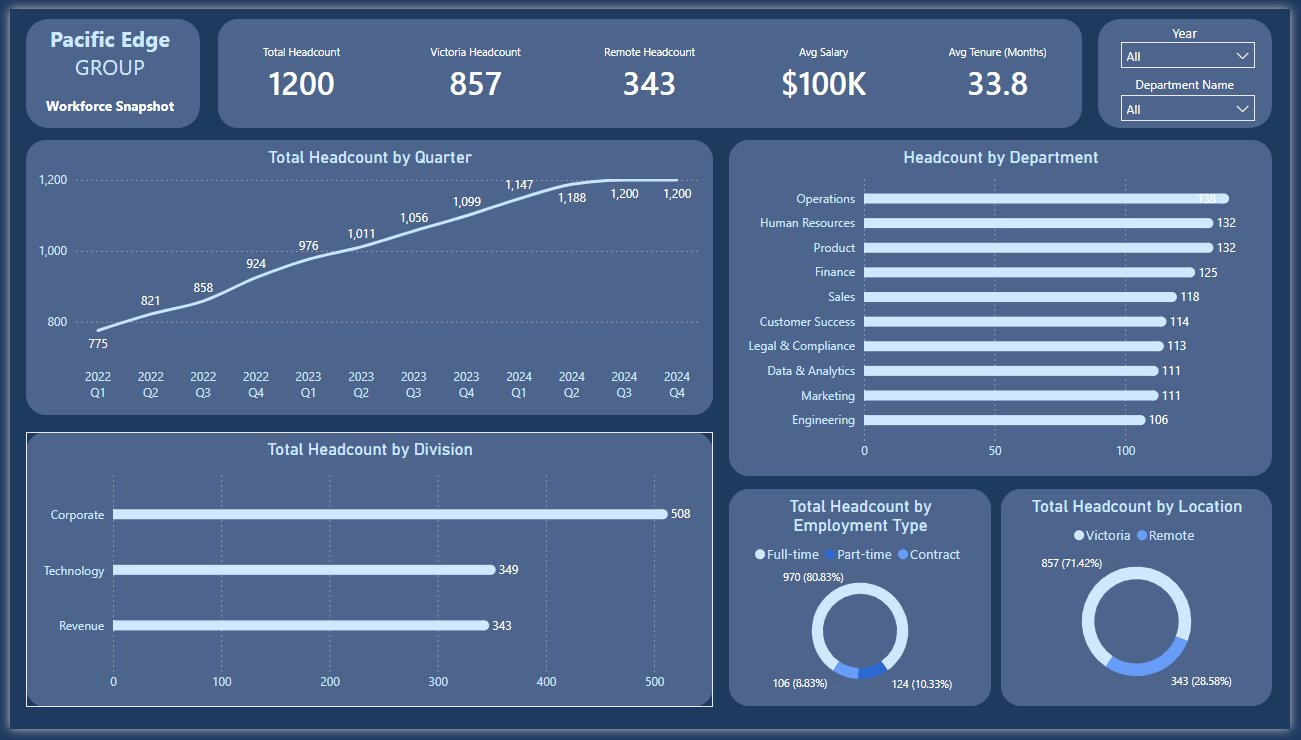

This screenshot's page, from the dashboard's own definition file:
{"tool":"powerbi","page":{"name":"Workforce Snapshot","canvas":[1280,720],"ordinal":0},"visuals":[{"type":"cardVisual","fields":{"Data":["_Measures.Total Headcount","_Measures.Victoria Headcount","_Measures.Remote Headcount","_Measures.Avg Salary","_Measures.Avg Tenure (Months)"]},"box":[207.8,10,864.4,108.9],"z":0},{"type":"shape","box":[15.6,10,174.4,108.9],"z":1000},{"type":"shape","box":[1087.8,10,174.4,108.9],"z":2000,"group":"g1"},{"type":"lineChart","title":"Total Headcount by Quarter","fields":{"Category":["dim_date.year_quarter"],"Y":["_Measures.Total Headcount"]},"box":[15.6,131.1,687.8,274.4],"z":2000},{"type":"clusteredBarChart","title":"Total Headcount by Division","fields":{"Category":["dim_department.division"],"Y":["_Measures.Total Headcount"]},"box":[15.6,423.3,687.8,274.4],"z":3000},{"type":"clusteredBarChart","title":"Headcount by Department","fields":{"Category":["dim_department.dept_name"],"Y":["_Measures.Total Headcount"]},"box":[718.9,131.1,543.3,335.6],"z":4000},{"type":"donutChart","title":"Total Headcount by Employment Type","fields":{"Category":["dim_employee.employment_type"],"Y":["_Measures.Total Headcount"]},"box":[718.9,480,262.2,216.7],"z":5000},{"type":"donutChart","title":"Total Headcount by Location","fields":{"Category":["dim_employee.location"],"Y":["_Measures.Total Headcount"]},"box":[991.1,480,271.1,216.7],"z":6000},{"type":"textbox","box":[29,10,143,109],"z":7000},{"type":"group","id":"g1","title":"Group 1","box":[1087.8,10,174.4,121.1],"z":8000},{"type":"slicer","fields":{"Values":["dim_date.year"]},"box":[1101.1,22.6,153.7,54.2],"z":8000,"group":"g1"},{"type":"slicer","fields":{"Values":["dim_department.dept_name"]},"box":[1101.1,75.8,153.7,55.3],"z":9000,"group":"g1"},{"type":"textbox","box":[1087.9,10,174.2,47.4],"z":10000,"group":"g1"},{"type":"textbox","box":[1087.9,60.5,174.2,47.9],"z":11000,"group":"g1"}]}

Visuals, with their boxes in screenshot pixels (x1, y1, x2, y2), scaled from the page's 1280x720 canvas onto the 1301x740 screenshot:
cardVisual - _Measures.Total Headcount x _Measures.Victoria Headcount: [x1=211, y1=10, x2=1090, y2=122]
shape: [x1=16, y1=10, x2=193, y2=122]
shape: [x1=1106, y1=10, x2=1283, y2=122]
"Total Headcount by Quarter" lineChart: [x1=16, y1=135, x2=715, y2=417]
"Total Headcount by Division" clusteredBarChart: [x1=16, y1=435, x2=715, y2=717]
"Headcount by Department" clusteredBarChart: [x1=731, y1=135, x2=1283, y2=480]
"Total Headcount by Employment Type" donutChart: [x1=731, y1=493, x2=997, y2=716]
"Total Headcount by Location" donutChart: [x1=1007, y1=493, x2=1283, y2=716]
textbox: [x1=29, y1=10, x2=175, y2=122]
"Group 1" group: [x1=1106, y1=10, x2=1283, y2=135]
slicer - dim_date.year: [x1=1119, y1=23, x2=1275, y2=79]
slicer - dim_department.dept_name: [x1=1119, y1=78, x2=1275, y2=135]
textbox: [x1=1106, y1=10, x2=1283, y2=59]
textbox: [x1=1106, y1=62, x2=1283, y2=111]
